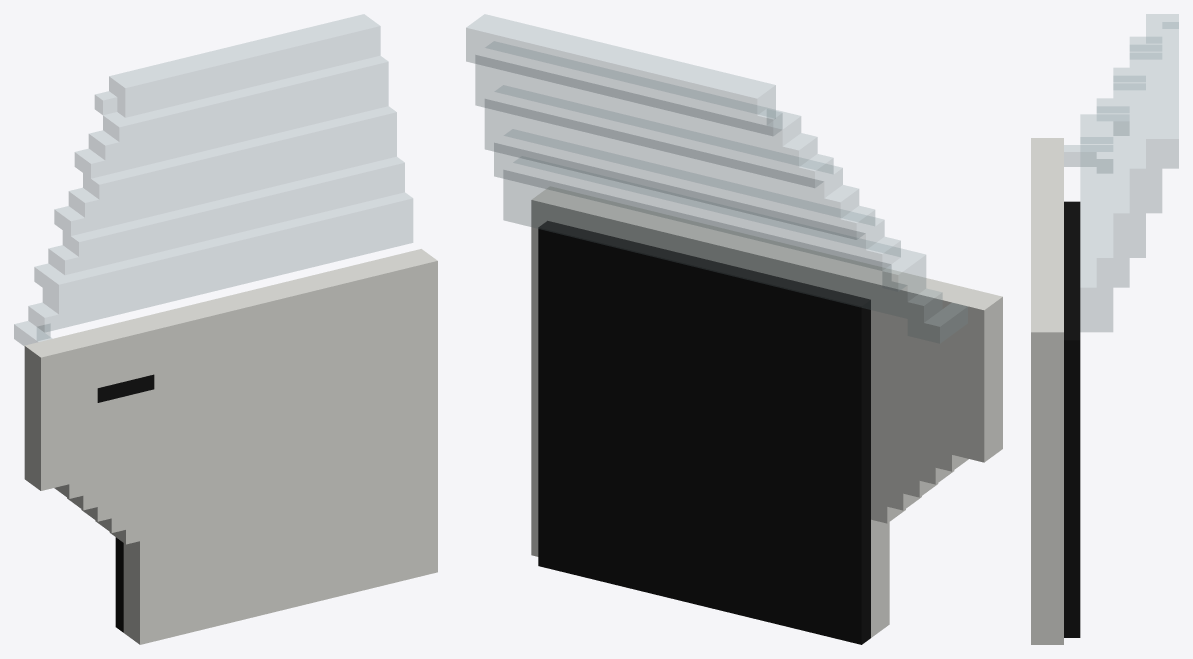
The model's file is police_car_rear_door.glb.
3 renders of one model, left to right at view 1: azimuth 30°, elevation 25°; view 2: azimuth 150°, elevation 25°; view 3: azimuth 270°, elevation 25°, orthographic. The views are drawn at different scales.
Visible parts, largest first — view 1: body:compound; view 2: body:compound; view 3: body:compound.
Boxes of the visible parts, <box> form: body:compound: <box>14,14,437,644</box>; body:compound: <box>466,14,1002,644</box>; body:compound: <box>1031,14,1178,644</box>.
Size of the model in its own units: 0.875 by 1.06 by 0.2812.
